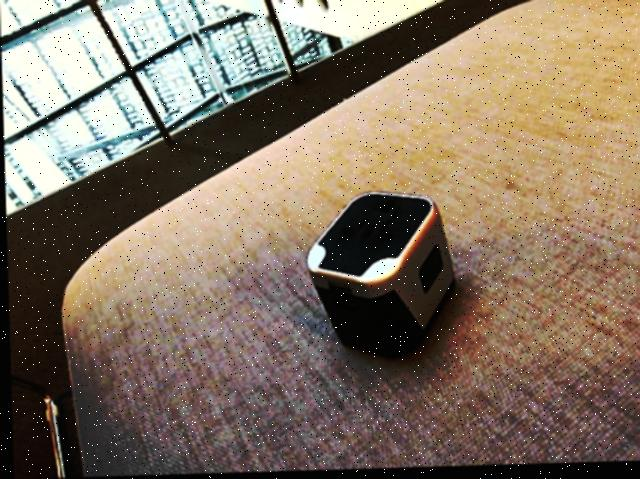adapter: (303, 191, 456, 362)
